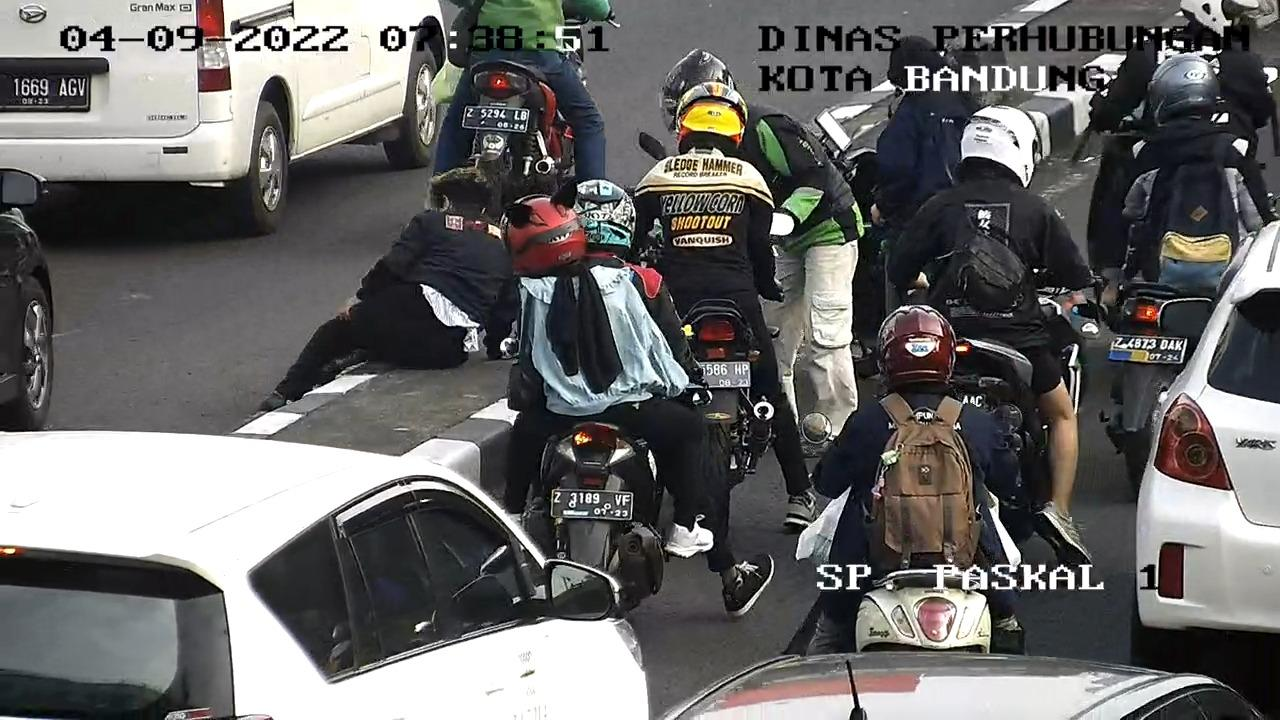accident: (240, 162, 533, 426)
